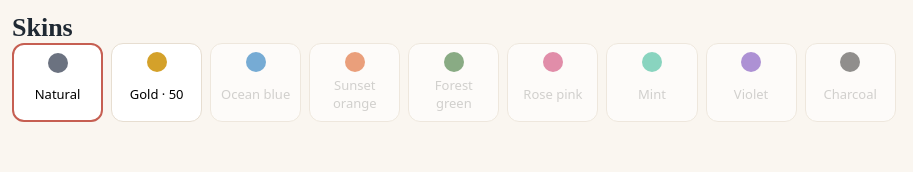
SkinPicker › acquisto fallito per monete insufficienti: mostra l’errore, non attiva
The width and height of the screenshot is (913, 172).
Click the button "Gold · 50".
click(157, 82)  # box [111, 43, 202, 122]
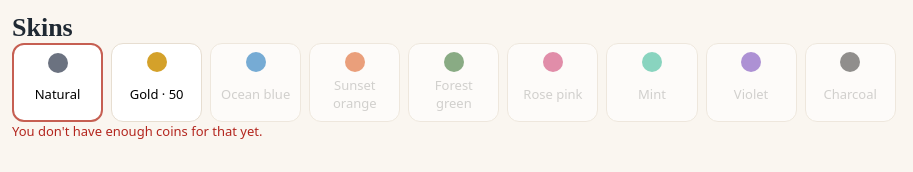
Expected: the message "You don't have enough coins for that yet." is shown, [12, 122, 262, 140]
